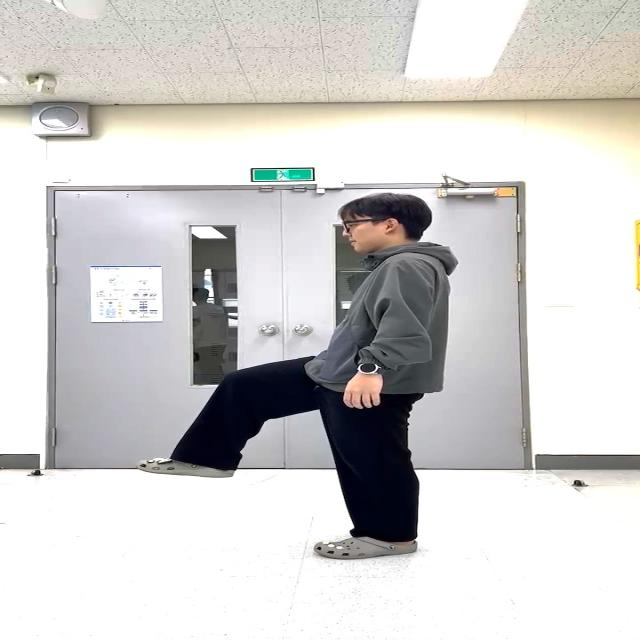leg: (136, 355, 320, 477), (313, 385, 421, 557)
